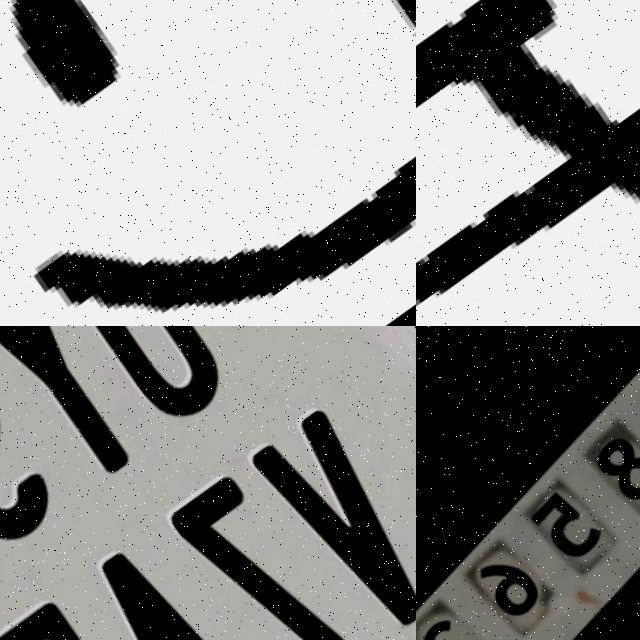0: (22, 326, 251, 436)
2: (416, 585, 518, 640)
5: (515, 463, 633, 581)
6: (457, 521, 576, 640)
8: (573, 403, 640, 524)
9: (0, 326, 83, 556)
A: (63, 526, 298, 640)
C: (48, 164, 416, 314)
E: (0, 590, 203, 640)
F: (416, 0, 640, 308)
V: (239, 401, 416, 640)
Y: (0, 326, 168, 490)
Z: (154, 466, 380, 640)
